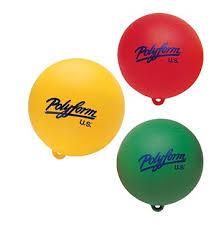buoy: (118, 13, 203, 101)
